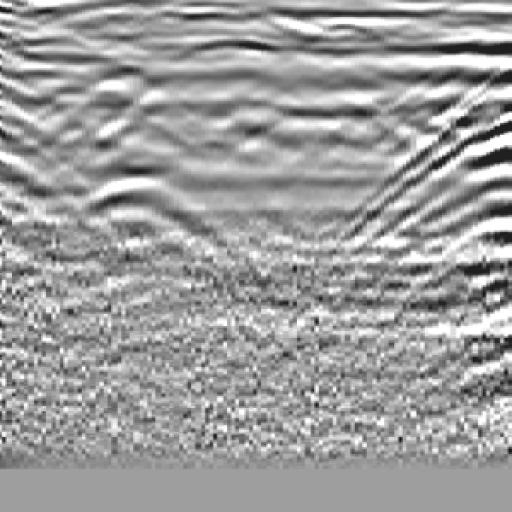metalic: (63, 147, 227, 274)
nonmetalic: (387, 55, 512, 287)
